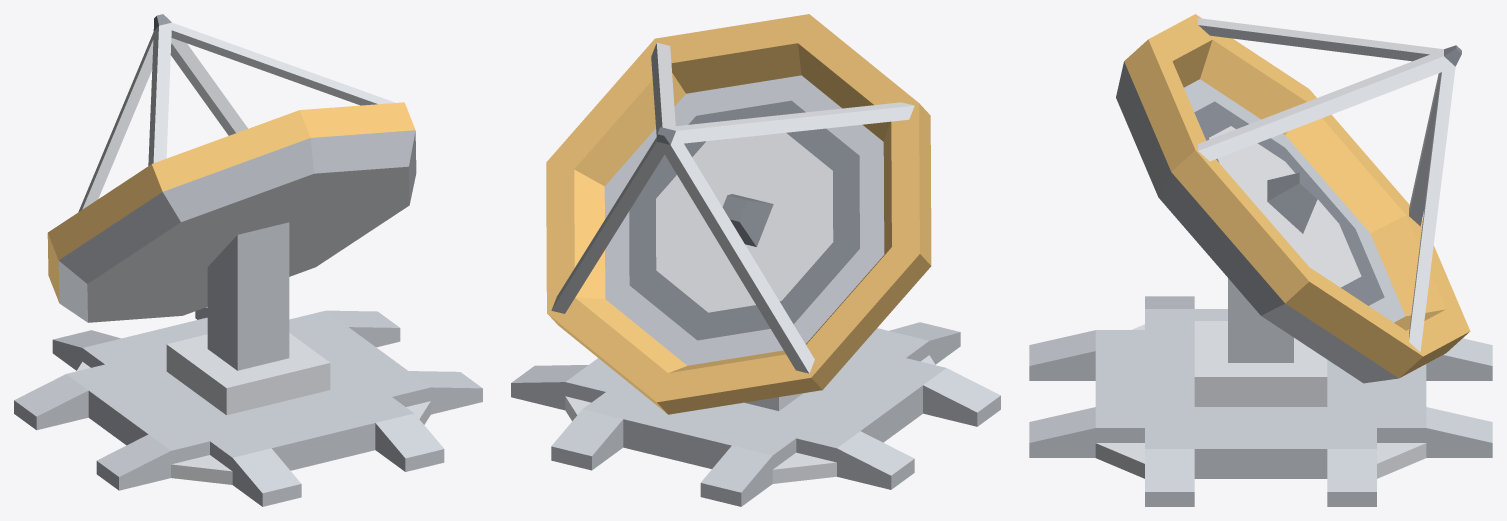
Rendered from satelliteDish_detailed.glb.
The picture shows the model from 3 angles, left to right: view 1: azimuth 30°, elevation 25°; view 2: azimuth 150°, elevation 25°; view 3: azimuth 270°, elevation 25°; orthographic projection. The views are drawn at different scales.
Visible parts, largest first — view 1: satelliteDish_detailed; view 2: satelliteDish_detailed; view 3: satelliteDish_detailed.
Boxes of the visible parts, bbox=[...] form: satelliteDish_detailed: bbox=[14, 14, 482, 506]; satelliteDish_detailed: bbox=[511, 14, 1000, 506]; satelliteDish_detailed: bbox=[1029, 14, 1492, 506].
Size of the model in its own units: 0.7 by 0.6165 by 0.7.
Materials: 1 (1 with a texture image).
